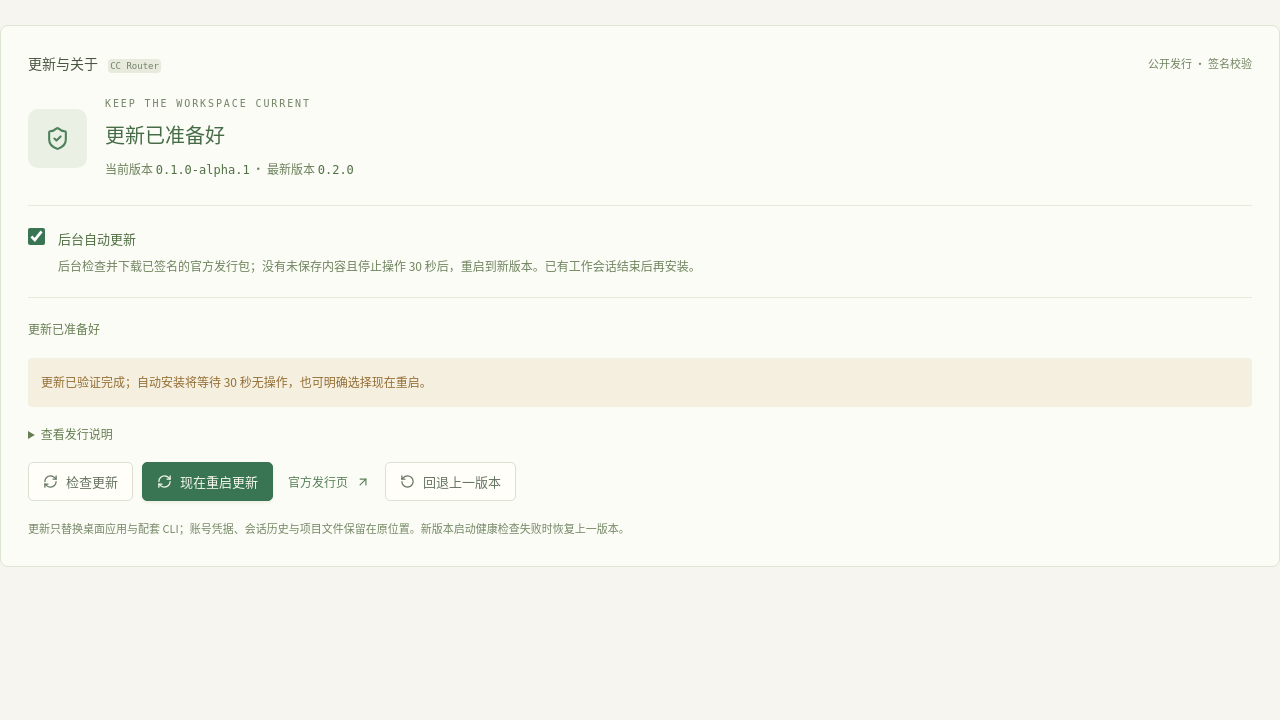
Scenario: signed update controls › does not request a restart when reporting the safe state fails
This screenshot has width=1280, height=720.
Click the button "现在重启更新": [208, 482] box [142, 462, 273, 501]
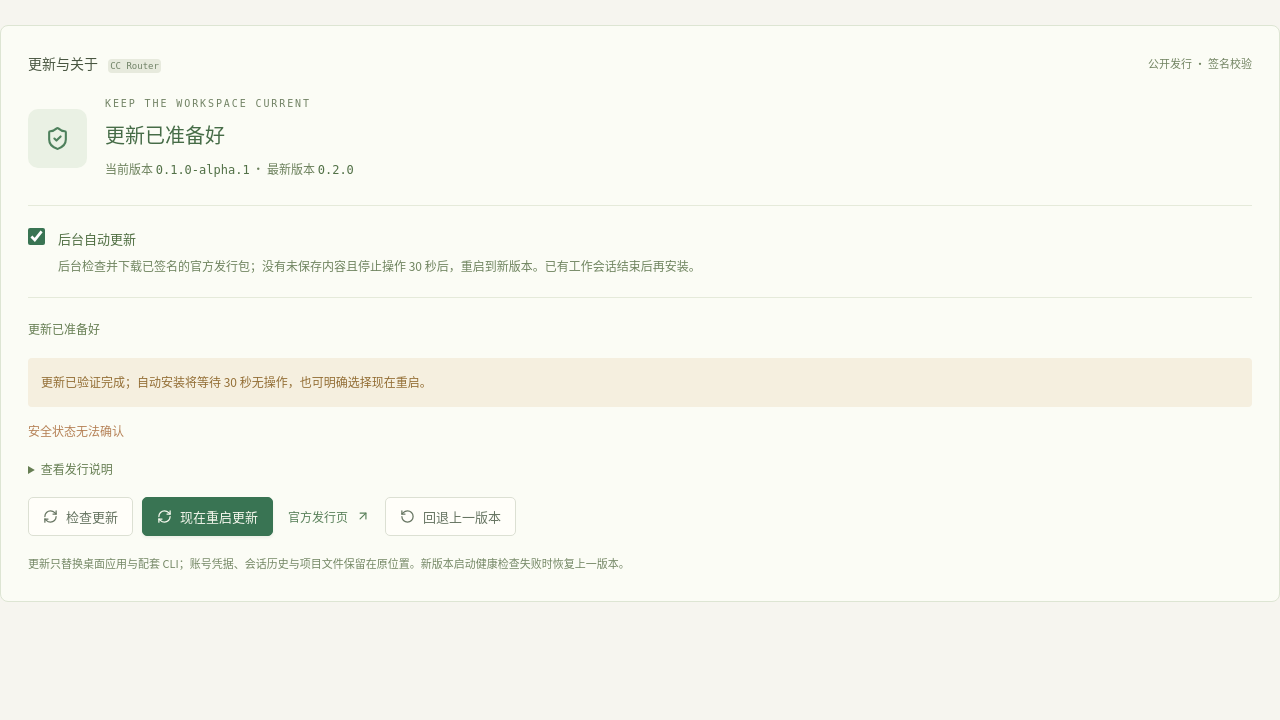
Expected: the message "安全状态无法确认" is shown, [28, 422, 124, 439]
